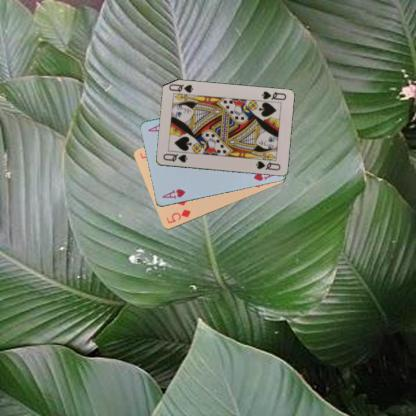5d: (163, 207, 192, 225)
Ah: (160, 186, 186, 200)
Qs: (161, 151, 188, 164), (259, 89, 287, 101)
